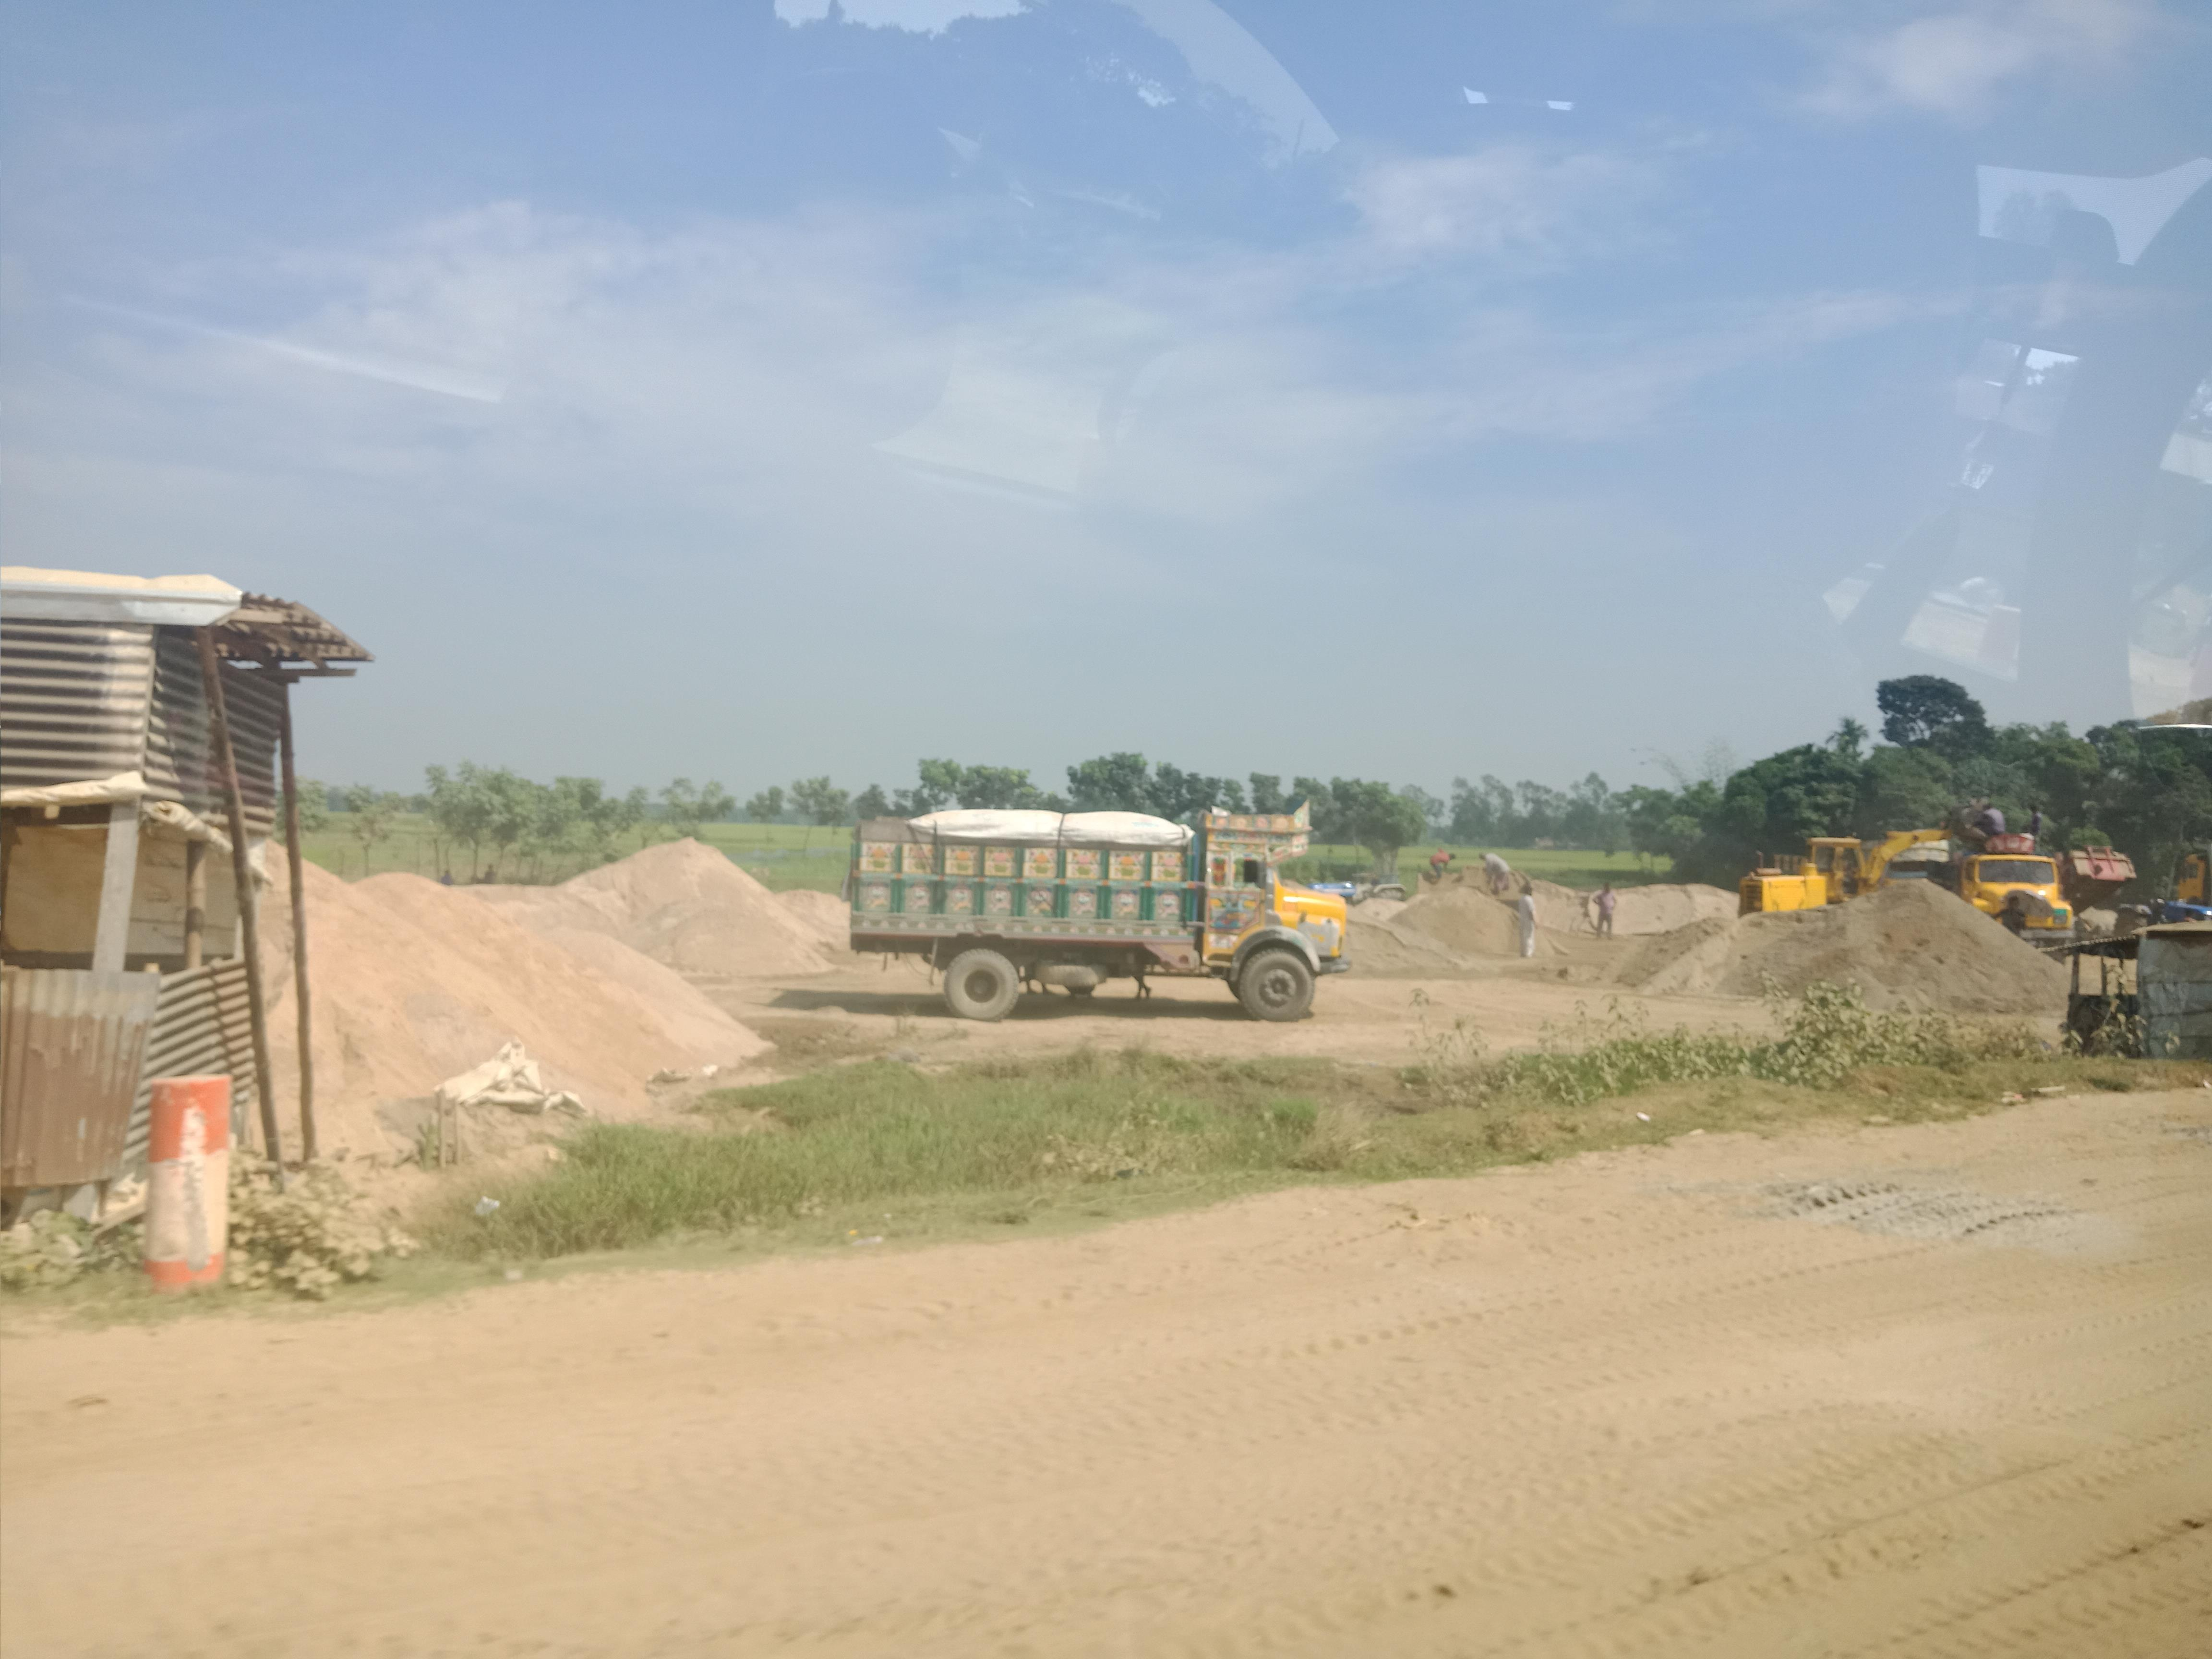truck: (848, 789, 1339, 1016), (1961, 826, 2073, 950)
